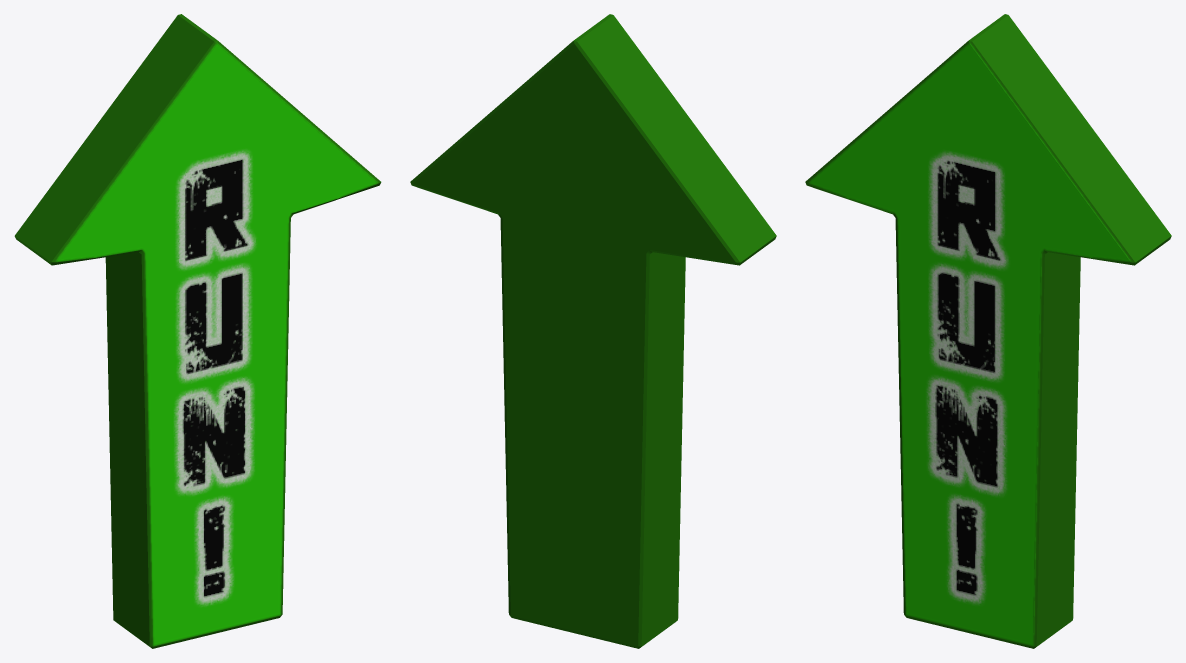
File: Arrow.fbx
The picture shows the model from 3 angles, left to right: view 1: azimuth 30°, elevation 25°; view 2: azimuth 150°, elevation 25°; view 3: azimuth 330°, elevation 25°; orthographic projection.
Parts seen in each view (by area): view 1: Arrow; view 2: Arrow; view 3: Arrow.
Part boxes in pixels (x1=…): Arrow: x1=14, y1=14, x2=381, y2=648; Arrow: x1=410, y1=14, x2=776, y2=648; Arrow: x1=805, y1=14, x2=1171, y2=648.
Size of the model in its own units: 1.87 by 3.2 by 0.372.
